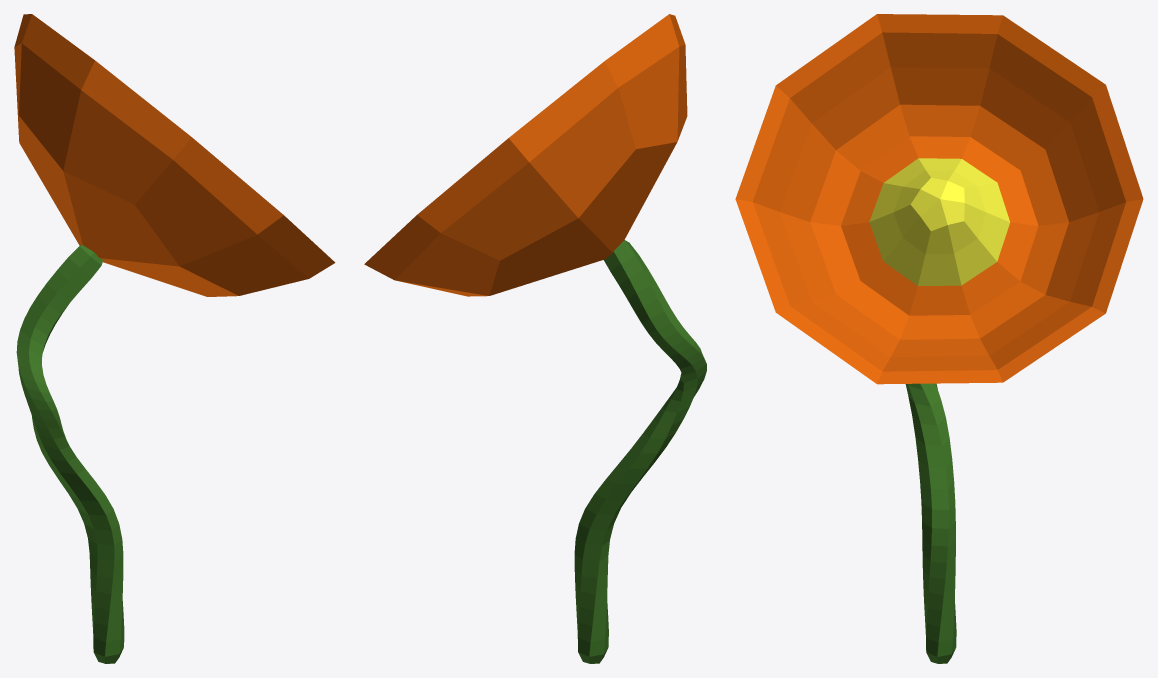
Rendered from flower2.fbx.
The picture shows the model from 3 angles, left to right: view 1: azimuth 30°, elevation 25°; view 2: azimuth 150°, elevation 25°; view 3: azimuth 270°, elevation 25°; orthographic projection.
Parts seen in each view (by area): view 1: flower2; view 2: flower2; view 3: flower2.
Boxes of the visible parts, bbox=[...] form: flower2: bbox=[14, 14, 335, 663]; flower2: bbox=[364, 14, 706, 663]; flower2: bbox=[735, 14, 1143, 663].
Size of the model in its own units: 111 by 234 by 138.
